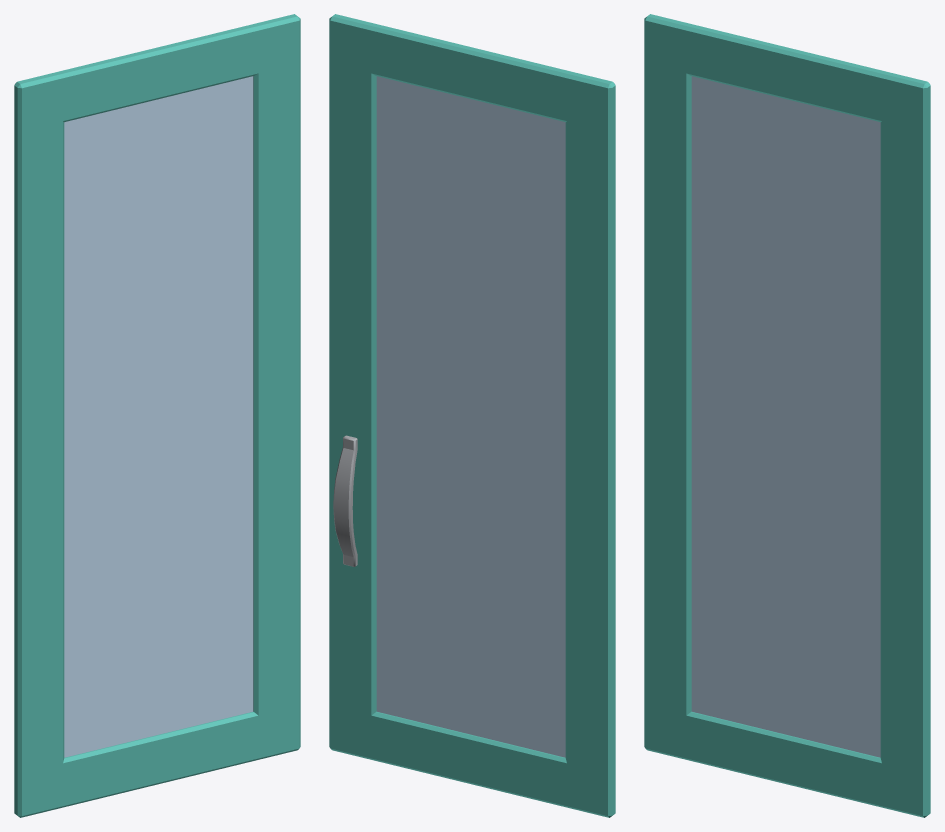
The model's file is Bookcase_door_2.fbx.
The picture shows the model from 3 angles, left to right: view 1: azimuth 30°, elevation 25°; view 2: azimuth 150°, elevation 25°; view 3: azimuth 330°, elevation 25°; orthographic projection.
Visible parts, largest first — view 1: Bookcase_door_2; view 2: Bookcase_door_2; view 3: Bookcase_door_2.
Boxes of the visible parts, left/top/right/bottom form: Bookcase_door_2: left=14, top=14, right=300, bottom=817; Bookcase_door_2: left=329, top=14, right=615, bottom=817; Bookcase_door_2: left=644, top=14, right=930, bottom=817.
Size of the model in its own units: 0.4975 by 1.23 by 0.053.
